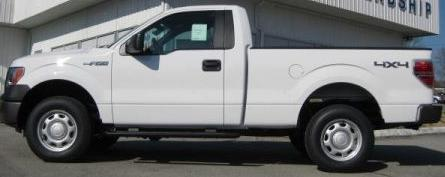backlight: (409, 57, 437, 94)
headlight: (4, 62, 34, 99)
side_glass: (121, 11, 237, 58)
